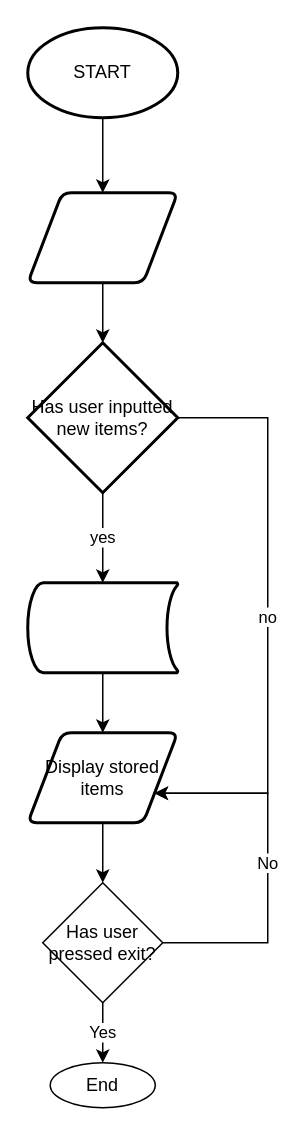
The diagram is 306 pixels wide and 1134 high, and some of its shapes have lost their labels. The box of each missing label's shape, as (x1, y1, x2, y2) in pixels:
OPEN inventory: (26, 190, 178, 284)
Store new item: (26, 580, 178, 674)
